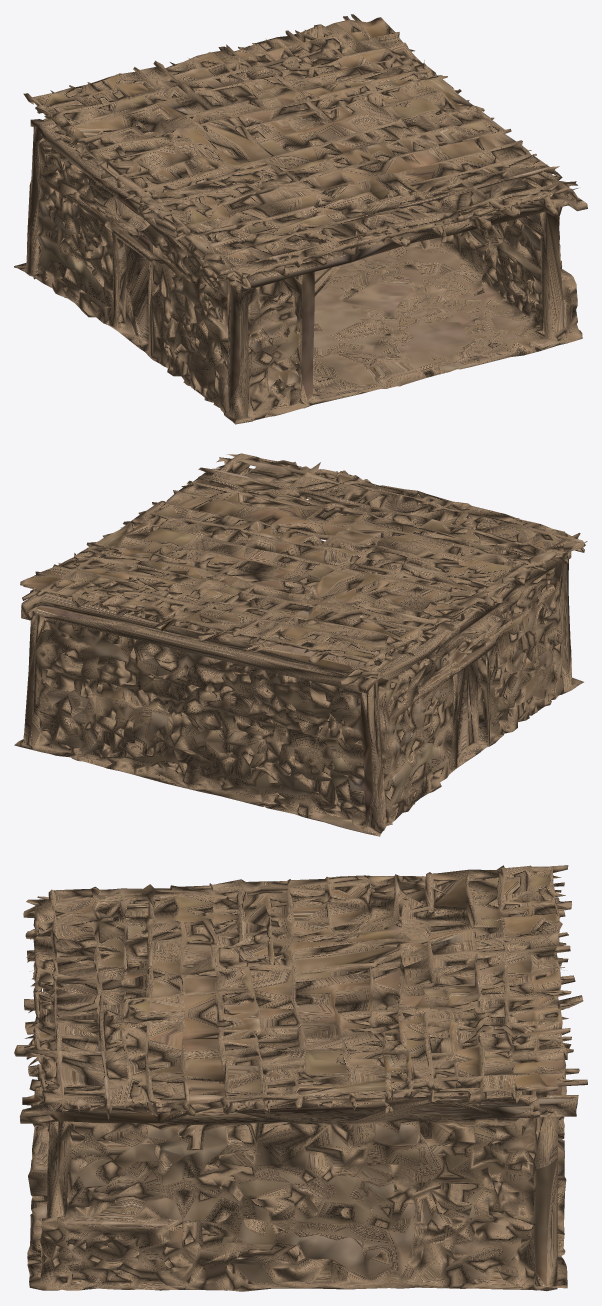
The model's file is square-nativity-stall.glb.
The picture shows the model from 3 angles, top to bottom: view 1: azimuth 30°, elevation 25°; view 2: azimuth 150°, elevation 25°; view 3: azimuth 270°, elevation 25°; orthographic projection. The views are drawn at different scales.
Visible parts, largest first — view 1: geometry_0; view 2: geometry_0; view 3: geometry_0.
Part boxes in pixels (box(x1,y1,x2,y2)): geometry_0: box(14, 14, 587, 424); geometry_0: box(14, 453, 587, 836); geometry_0: box(14, 865, 587, 1291).
Bounding box in the file's own units: 7.1 × 3.19 × 7.52.
Materials: 1 (1 with a texture image).
